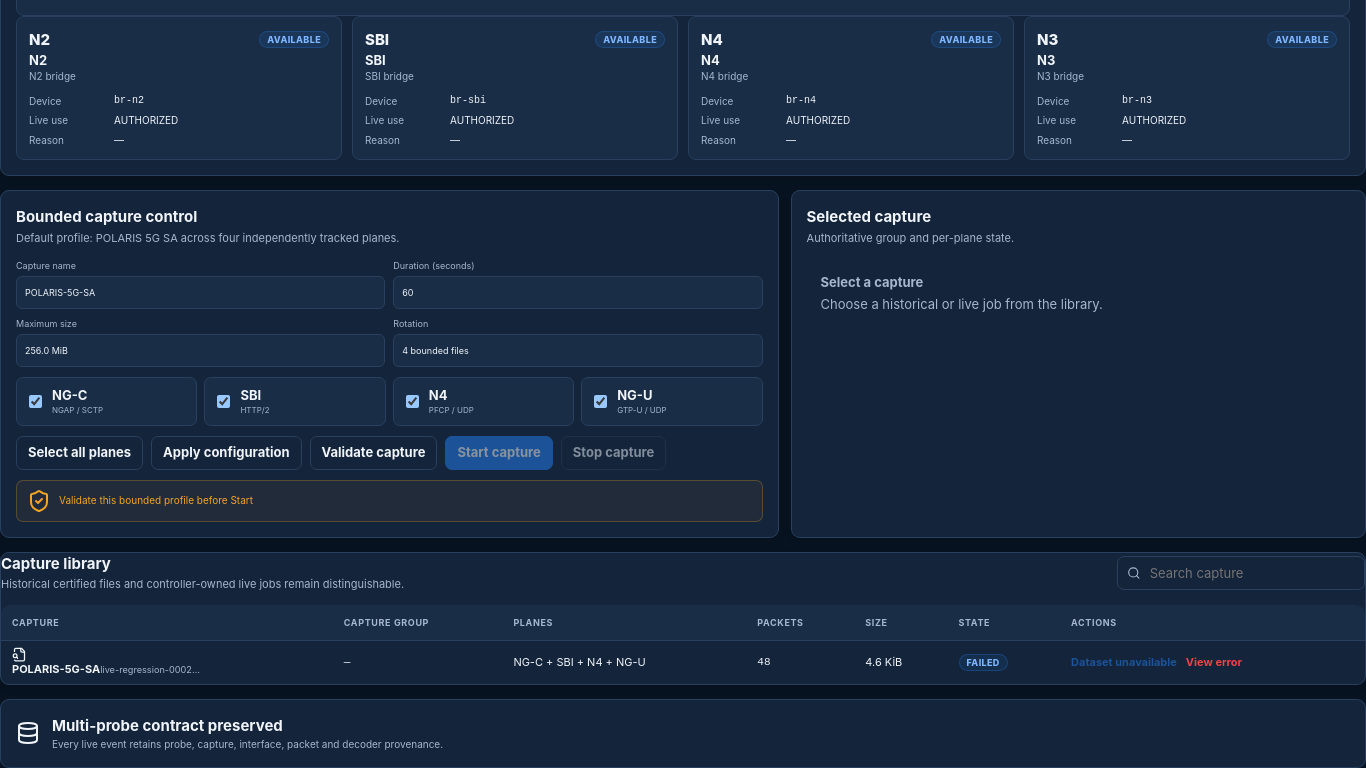
Test case: Probe Manager failed capture evidence › shows the exact failure and preserved PCAP evidence without opening a session
(page scrolled)
Click the button "View error". click: click(1214, 663)
box: [1186,655,1242,670]
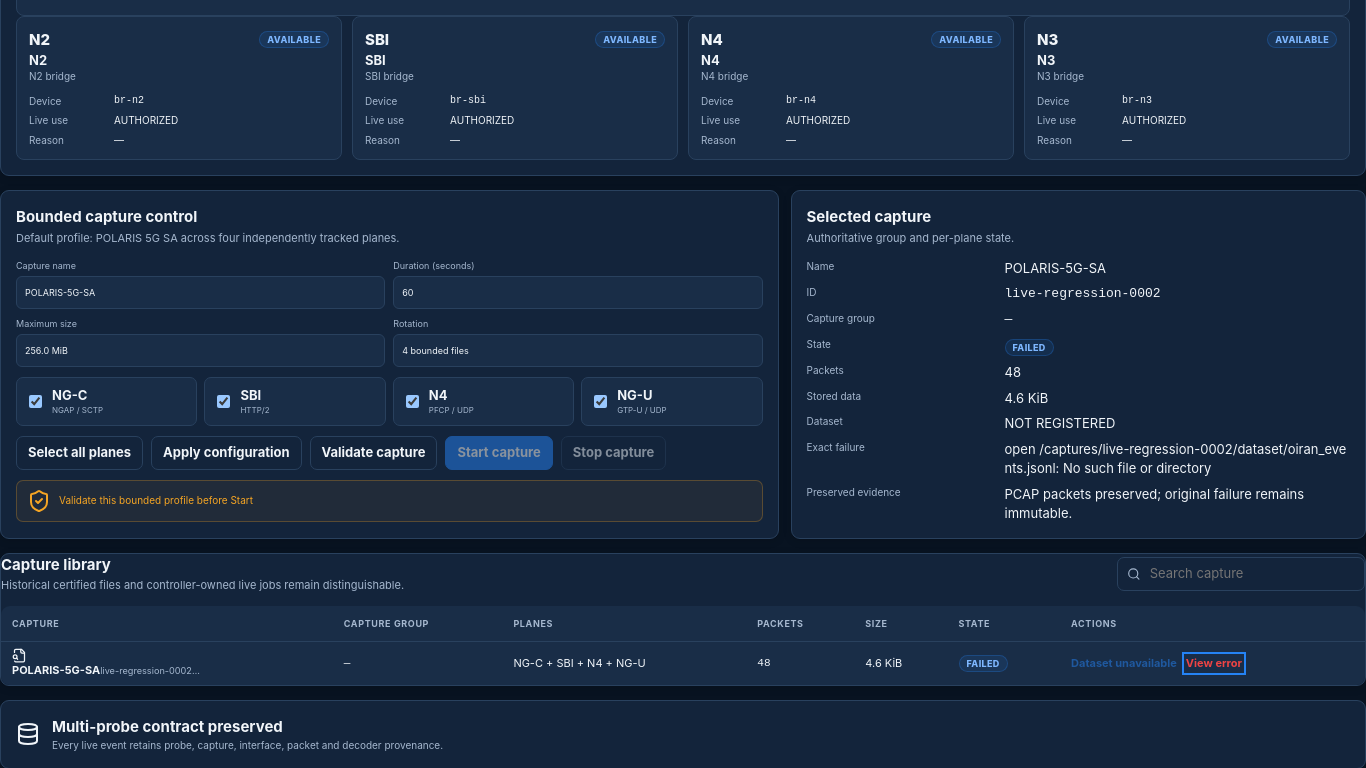
Expected: the text "Exact failure" is shown, [806,441,865,453]
Expected: the text "No such file or directory" is shown, [1004,441,1346,476]
Expected: the text "PCAP packets preserved; original failure remains immutable." is shown, [1004,485,1350,523]
